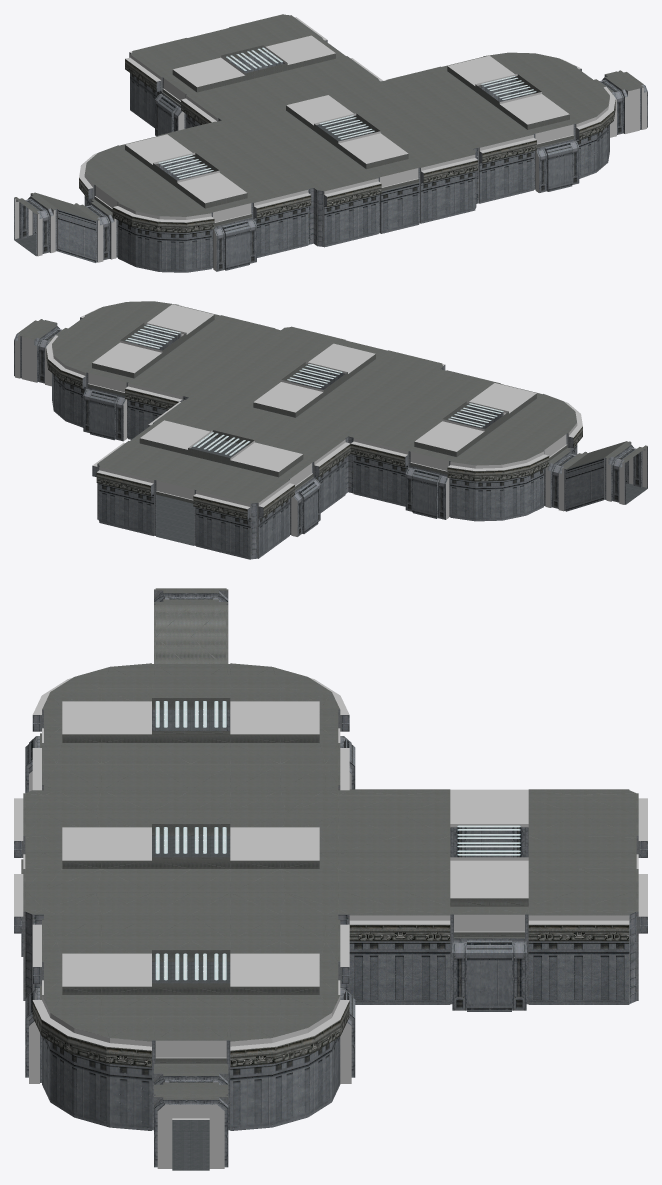
The model's file is poi_all_impl_bunker_small_outpost_s02_r7_computerroom_mesh.fbx.
3 views of the same model, one above another, from view 1: azimuth 30°, elevation 25°; view 2: azimuth 150°, elevation 25°; view 3: azimuth 270°, elevation 25° (orthographic). The views are drawn at different scales.
Visible parts, largest first — view 1: mesh_node; view 2: mesh_node; view 3: mesh_node.
Part boxes in pixels (x1,y1,x2,y2): mesh_node: (14,14,647,272); mesh_node: (14,301,647,559); mesh_node: (14,588,647,1170).
Bounding box in the file's own units: 61 × 6 × 34.
